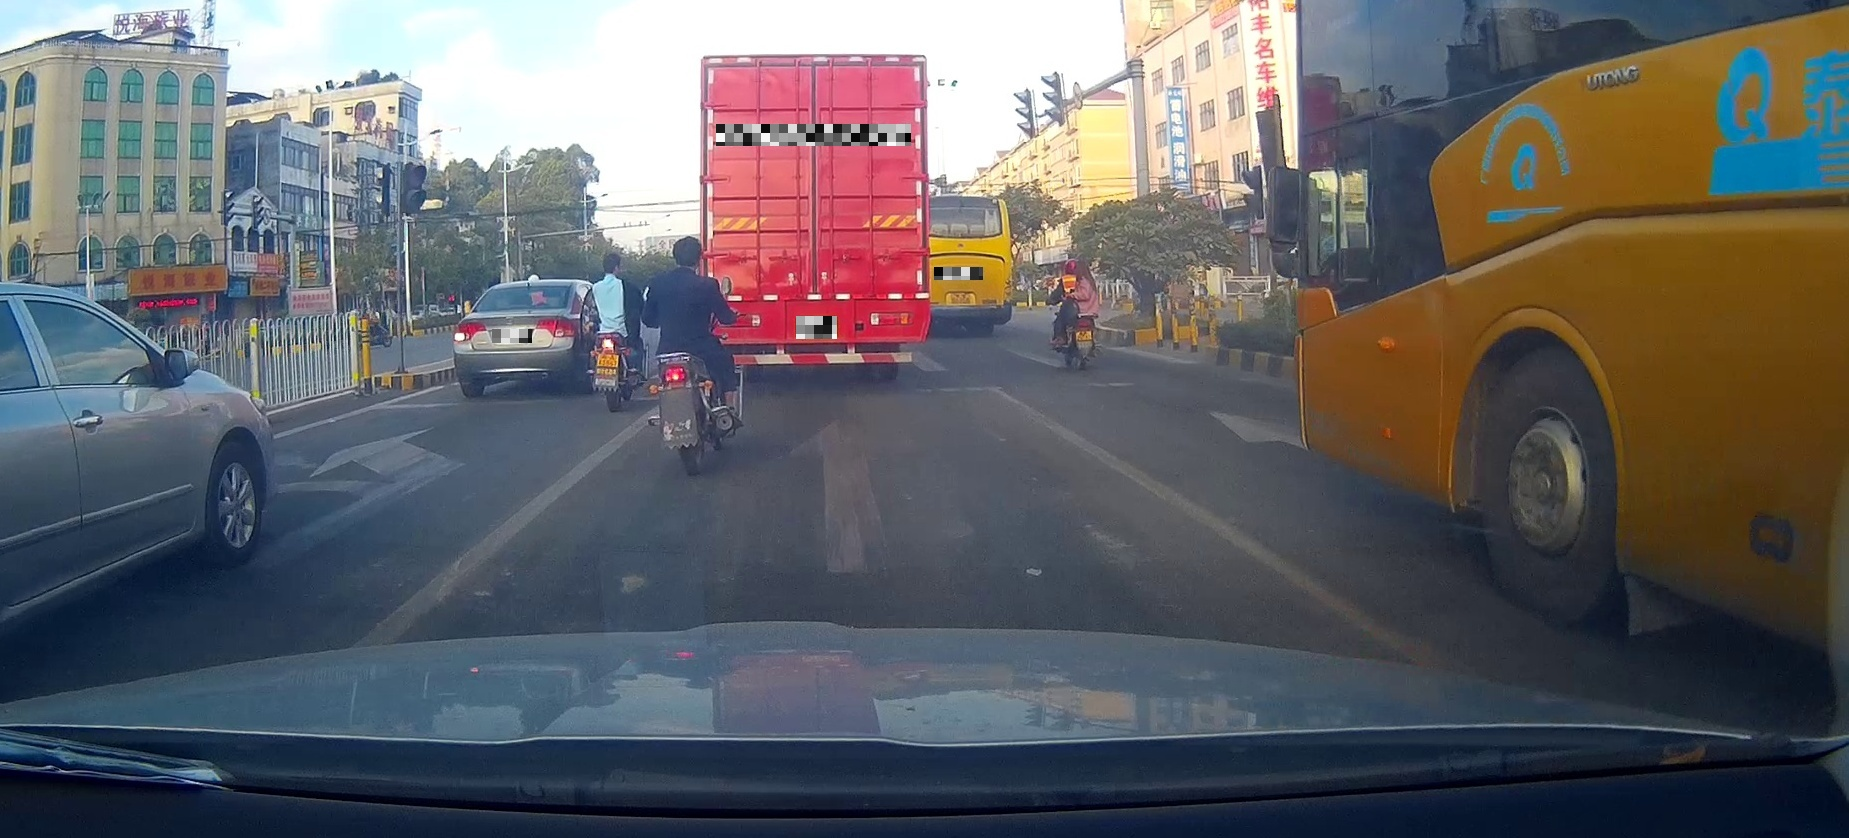L_light: (452, 322, 487, 343), (717, 314, 759, 326)
R_light: (537, 317, 575, 338), (870, 314, 915, 325)
T_light: (792, 59, 833, 68), (508, 304, 529, 308)
day-left: (452, 281, 575, 400)
day-no: (699, 54, 932, 380)
plate_1: (492, 329, 532, 343)
plate_2: (716, 124, 912, 146)
plate_3: (796, 316, 837, 339)
plate_4: (934, 268, 983, 281)
